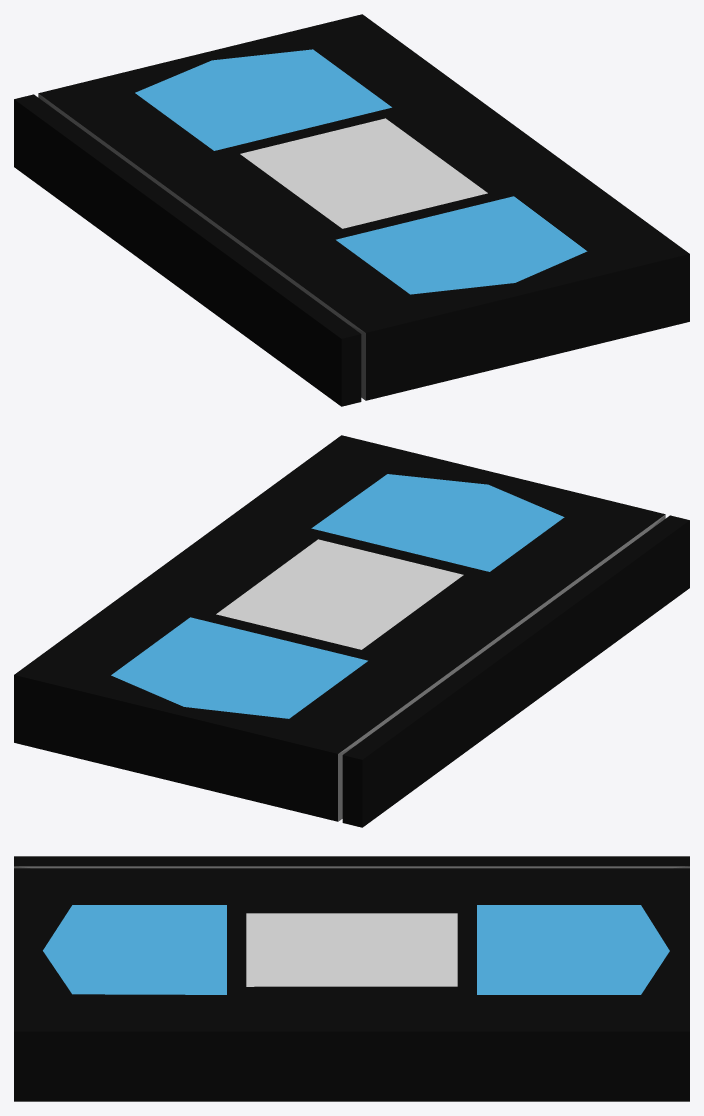
File: VHSTape.FBX
The picture shows the model from 3 angles, top to bottom: view 1: azimuth 30°, elevation 25°; view 2: azimuth 150°, elevation 25°; view 3: azimuth 270°, elevation 25°; orthographic projection. The views are drawn at different scales.
Parts seen in each view (by area): view 1: Box001; view 2: Box001; view 3: Box001.
Boxes of the visible parts, x1,y1,x2,y2 form: Box001: (14, 14, 689, 406); Box001: (14, 435, 689, 827); Box001: (14, 856, 689, 1101).
Bounding box in the file's own units: 21.5 × 4 × 35.
